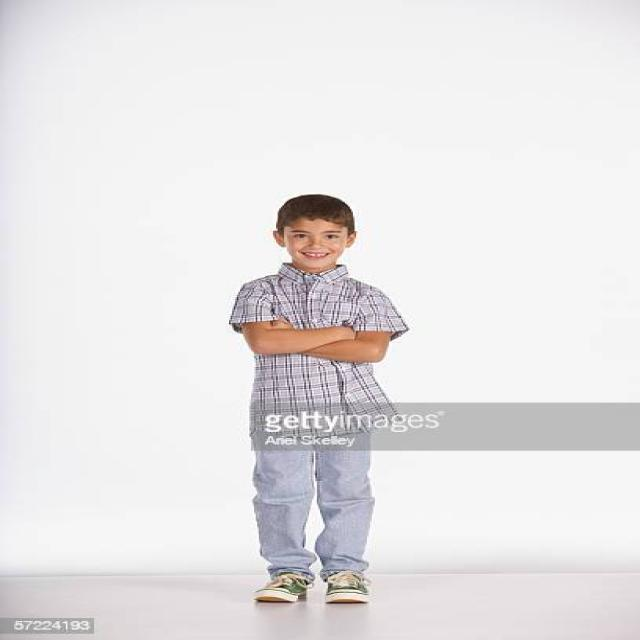child: (212, 179, 412, 615)
